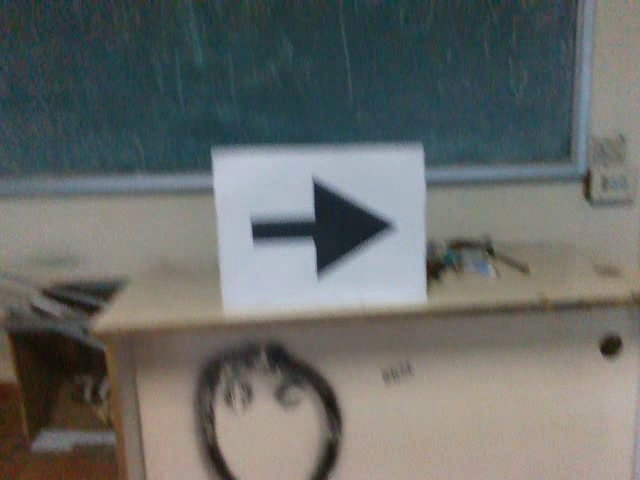Right: (231, 169, 399, 283)
